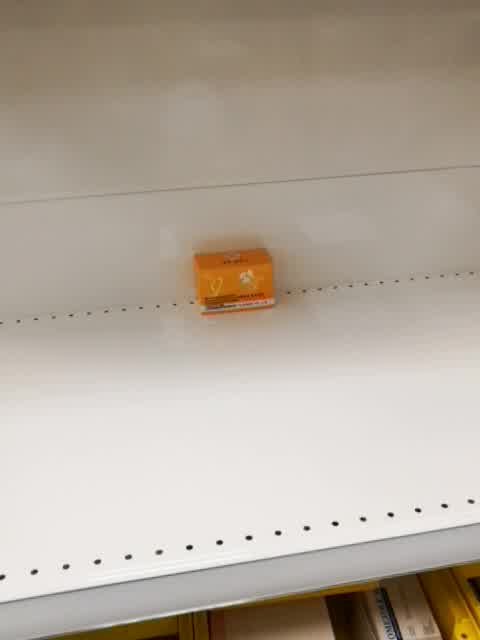jasminetea: (194, 246, 275, 316)
